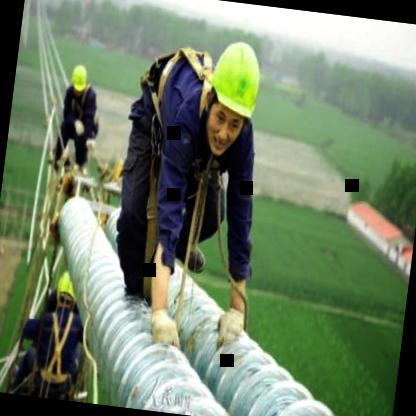helmet: (192, 29, 270, 166), (48, 269, 83, 319), (69, 62, 92, 101)
